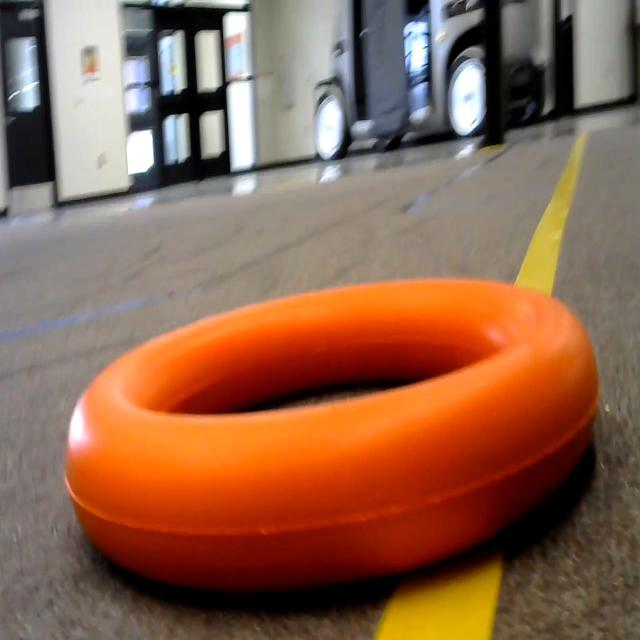note: (43, 244, 622, 596)
